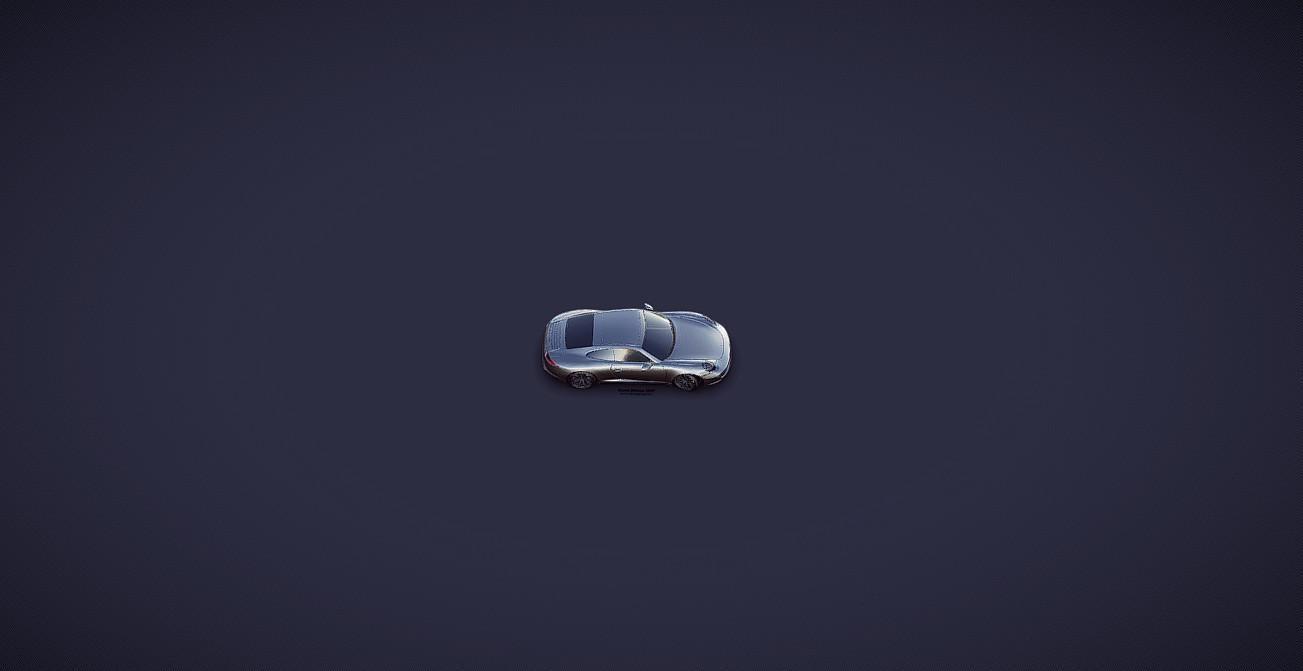Car: (540, 303, 731, 392)
